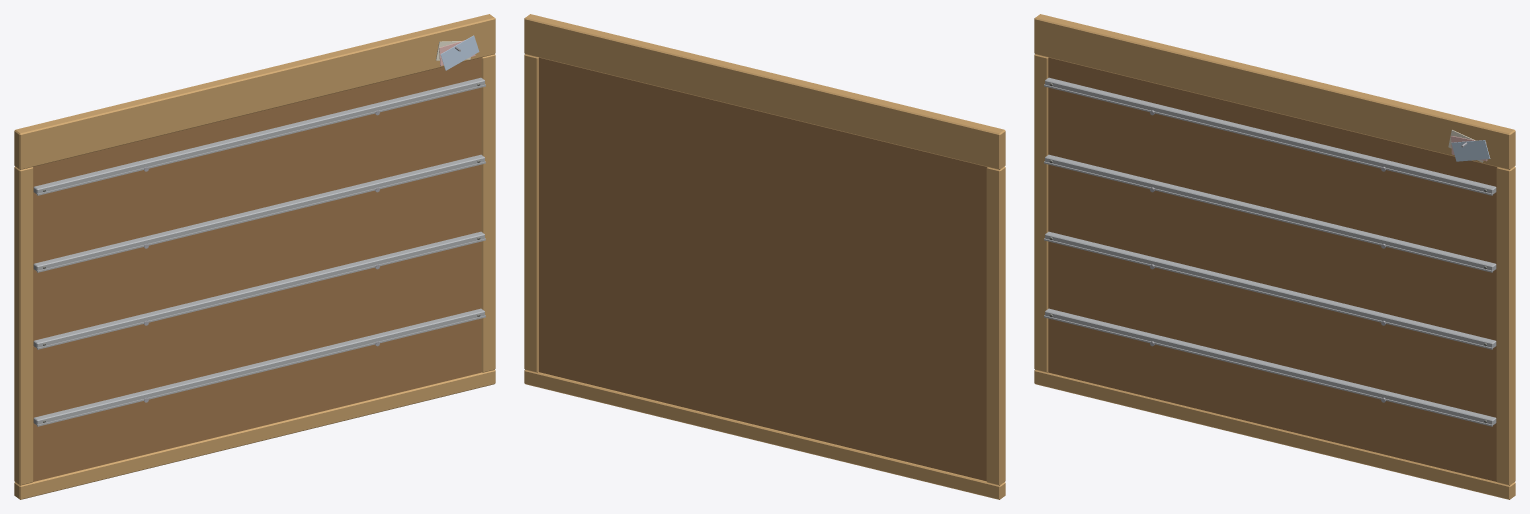
The model's file is room.ticket-rail.glb.
3 views of the same model, side by side, from view 1: azimuth 30°, elevation 25°; view 2: azimuth 150°, elevation 25°; view 3: azimuth 330°, elevation 25° (orthographic).
Visible parts, largest first — view 1: cork, frame-top, frame-bottom, frame-side-1, frame-side1, rail1, rail2, rail0, rail3, rail2-lip, rail1-lip, rail0-lip (+2 smaller); view 2: cork, frame-top, frame-bottom, frame-side-1, frame-side1; view 3: cork, frame-top, frame-bottom, frame-side1, frame-side-1, rail1, rail2, rail0, rail3, rail2-lip, rail1-lip, rail0-lip (+2 smaller).
Part boxes in pixels (x1=…): cork: x1=33, y1=57, x2=481, y2=481; frame-top: x1=14, y1=14, x2=495, y2=169; frame-bottom: x1=14, y1=370, x2=495, y2=499; frame-side-1: x1=14, y1=166, x2=33, y2=485; frame-side1: x1=481, y1=54, x2=495, y2=372; rail1: x1=33, y1=154, x2=484, y2=271; rail2: x1=33, y1=231, x2=484, y2=347; rail0: x1=33, y1=77, x2=484, y2=194; rail3: x1=33, y1=308, x2=484, y2=424; rail2-lip: x1=37, y1=238, x2=485, y2=349; rail1-lip: x1=37, y1=161, x2=485, y2=272; rail0-lip: x1=37, y1=84, x2=485, y2=195; cork: x1=539, y1=57, x2=986, y2=481; frame-top: x1=524, y1=14, x2=1005, y2=169; frame-bottom: x1=524, y1=370, x2=1005, y2=499; frame-side-1: x1=986, y1=166, x2=1005, y2=485; frame-side1: x1=524, y1=54, x2=538, y2=372; cork: x1=1048, y1=57, x2=1496, y2=481; frame-top: x1=1034, y1=14, x2=1515, y2=169; frame-bottom: x1=1034, y1=370, x2=1515, y2=499; frame-side1: x1=1496, y1=166, x2=1515, y2=485; frame-side-1: x1=1034, y1=54, x2=1048, y2=372; rail1: x1=1045, y1=154, x2=1496, y2=271; rail2: x1=1045, y1=231, x2=1496, y2=347; rail0: x1=1045, y1=77, x2=1496, y2=194; rail3: x1=1045, y1=308, x2=1496, y2=424; rail2-lip: x1=1044, y1=238, x2=1492, y2=349; rail1-lip: x1=1044, y1=161, x2=1492, y2=272; rail0-lip: x1=1044, y1=84, x2=1492, y2=195.
Size of the model in its own units: 1.36 by 1 by 0.06.
